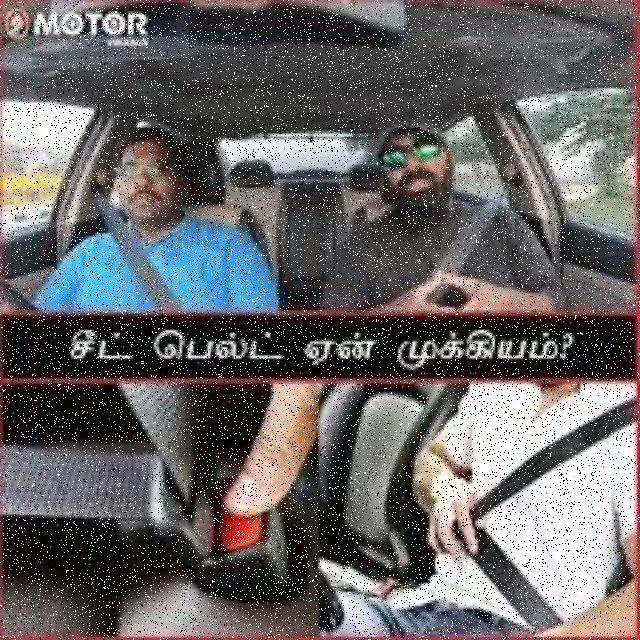seatbelt: (327, 187, 558, 313), (74, 197, 238, 314)
